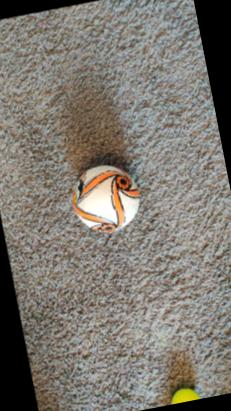Football mini: (57, 154, 147, 244)
